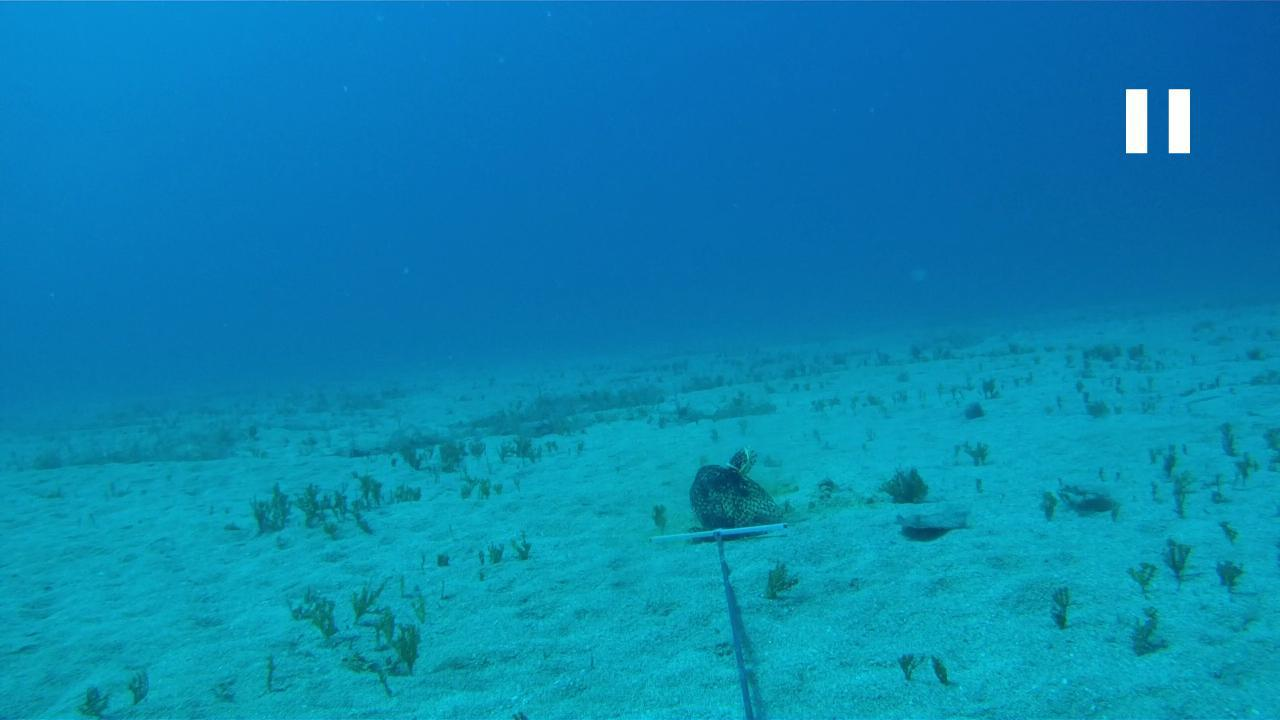bothus: (885, 496, 977, 544), (1046, 472, 1121, 510)
